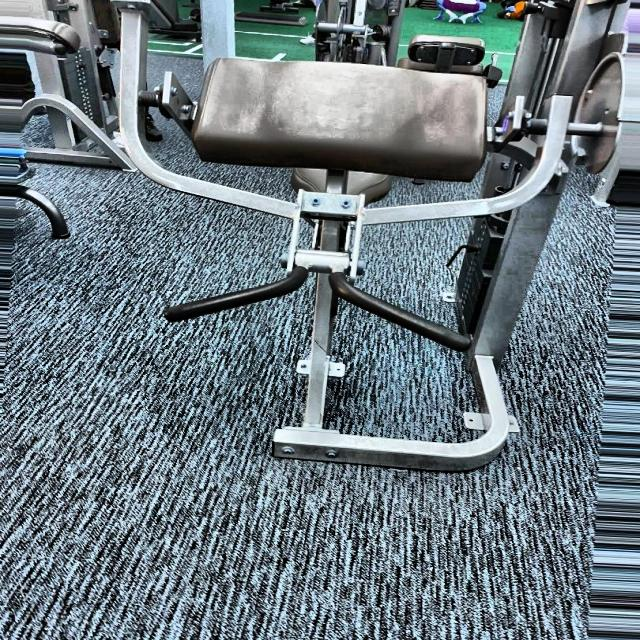bicep_curl_machine: (106, 27, 538, 474)
